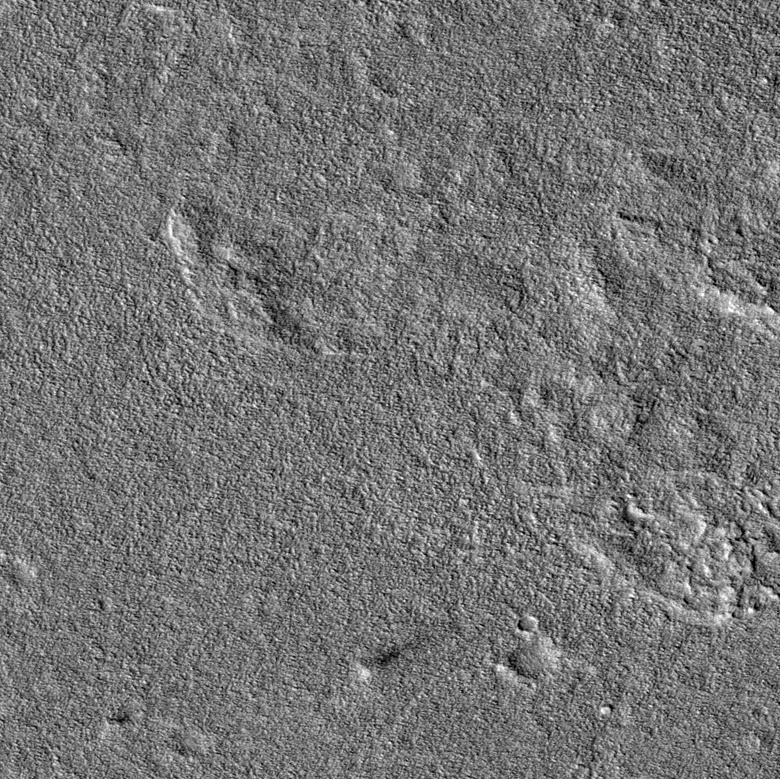dust_devil: (354, 647, 403, 682)
